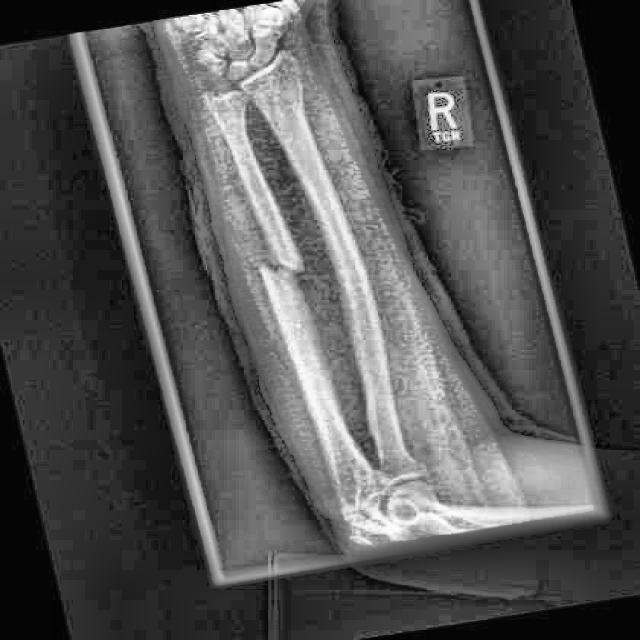forearm fracture: (238, 220, 339, 325)
